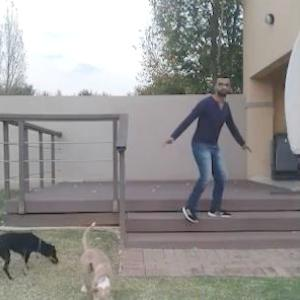land: (172, 74, 242, 230)
